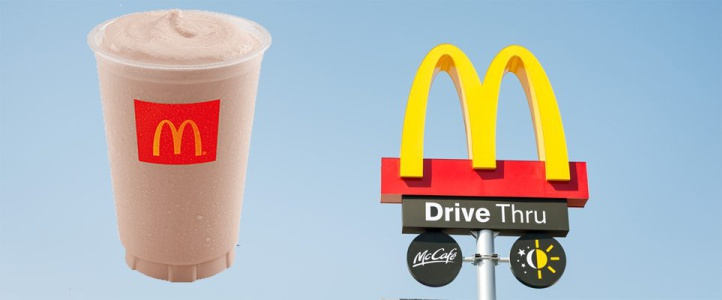mcdonalds: (151, 116, 204, 160)
